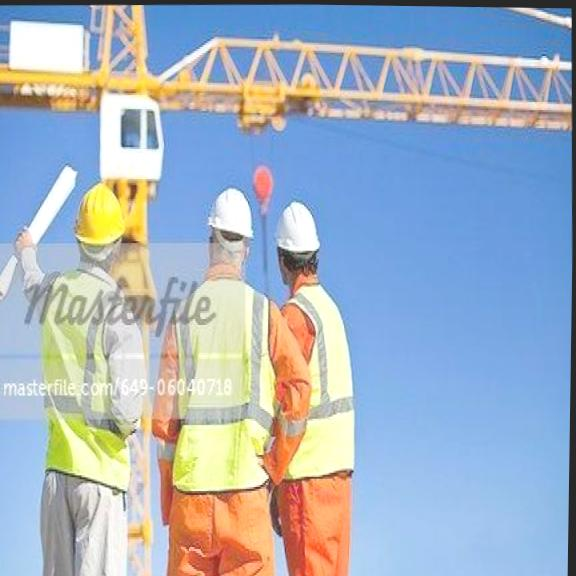safety_vest: (283, 287, 355, 485)
